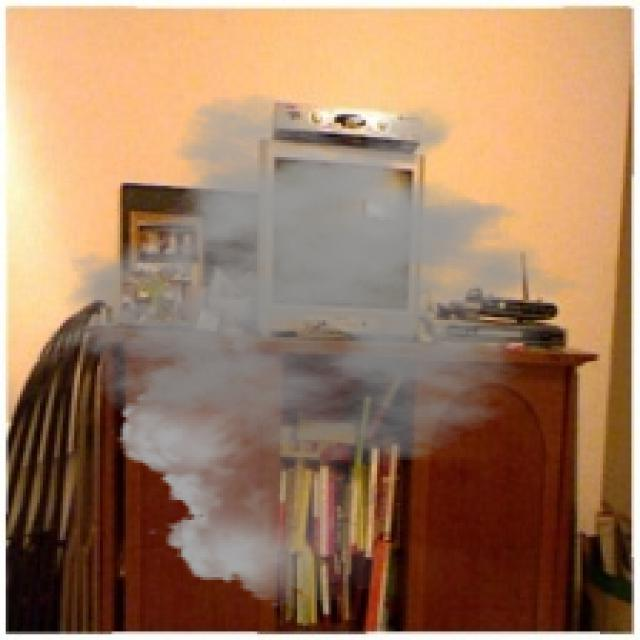smoke: (49, 91, 606, 608)
